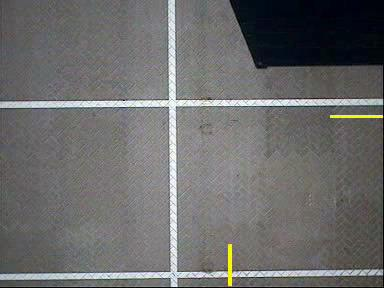groundmarker_2: (101, 63, 168, 107)
